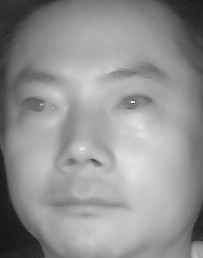eye: (113, 92, 159, 118), (16, 90, 59, 117)
mouth: (46, 181, 129, 225)
